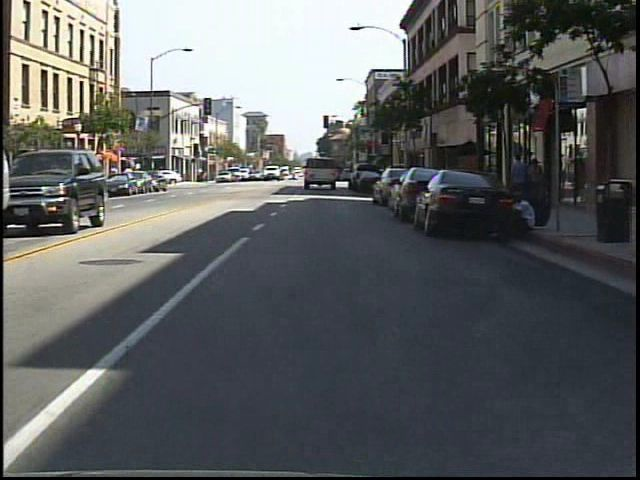person: (505, 148, 530, 217), (525, 156, 549, 215)
